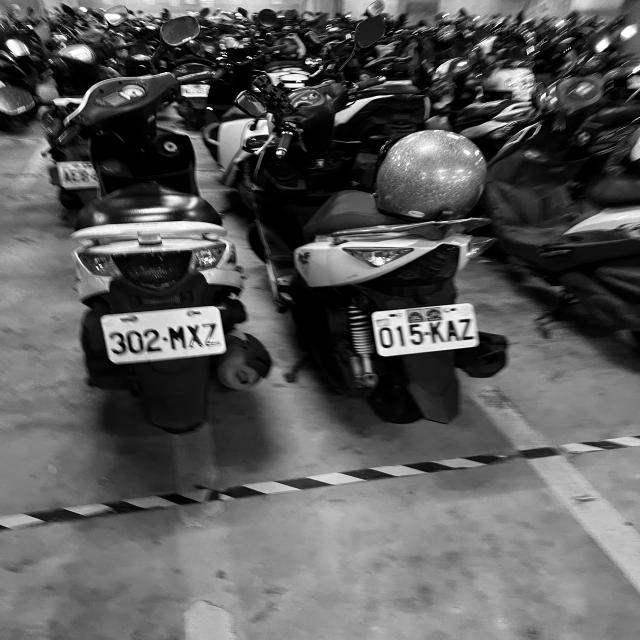-: (160, 336, 168, 342), (423, 331, 431, 336)
0: (124, 328, 145, 354), (378, 326, 394, 348)
1: (395, 324, 407, 347)
2: (142, 327, 163, 353)
3: (106, 329, 129, 357)
5: (408, 322, 426, 346)
A: (445, 319, 462, 342)
K: (429, 320, 448, 344)
M: (167, 325, 188, 350)
X: (185, 323, 205, 348)
Z: (200, 320, 222, 349), (457, 317, 476, 340)
plate: (102, 307, 225, 361), (375, 306, 478, 354)
